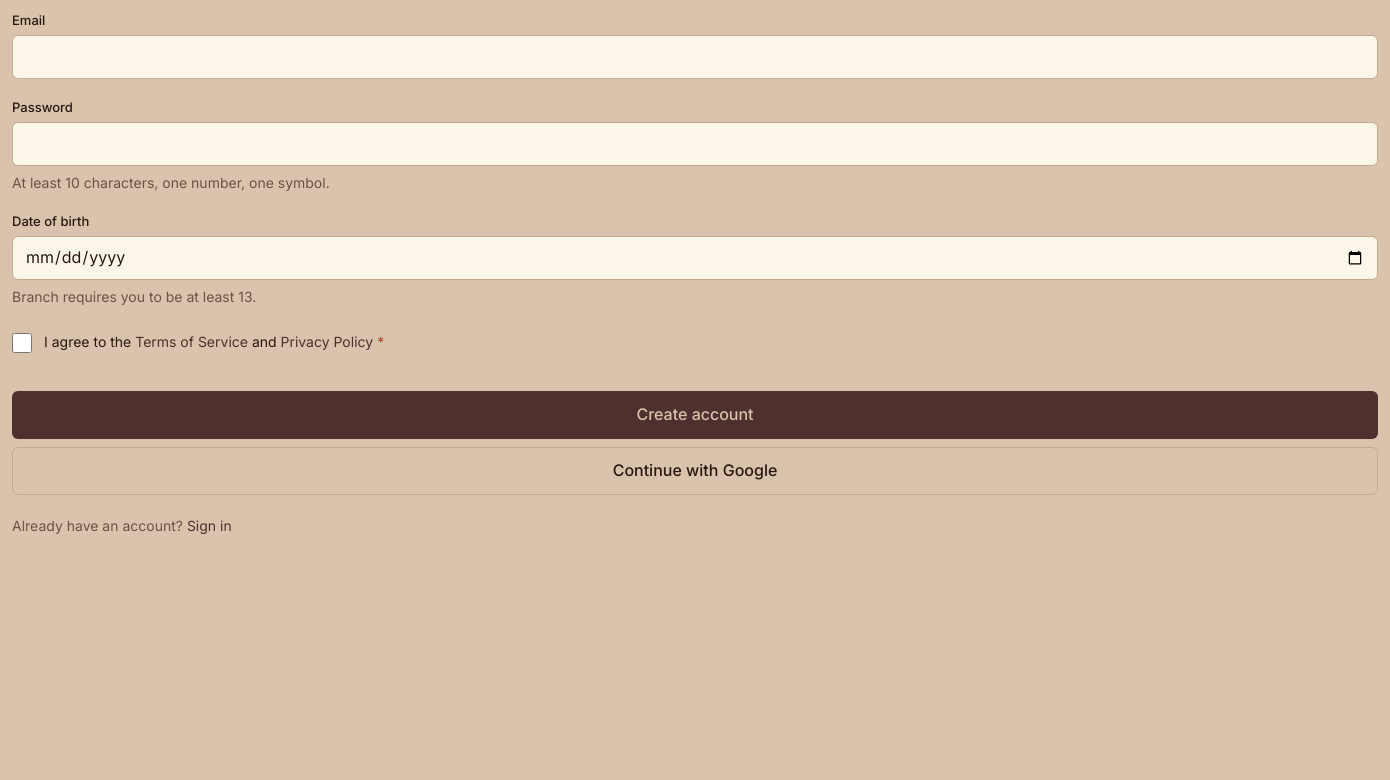
Scenario: SignUpForm › rejects passwords shorter than 10 characters
Type "alice@example.com" into the field labelled "Email" at (695, 57), box [12,35,1378,79]
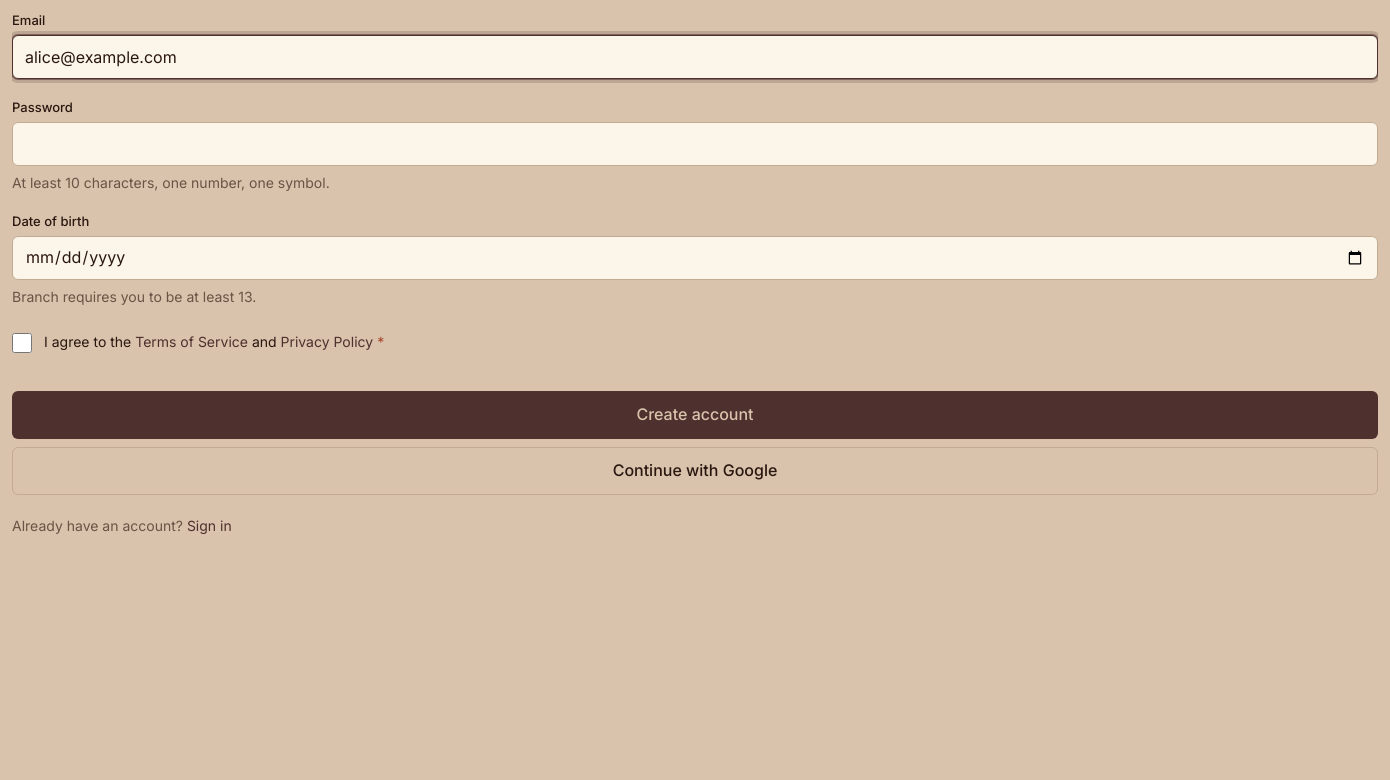
Type "short1!" into the password field labelled "Password" at (695, 144), box [12,122,1378,166]
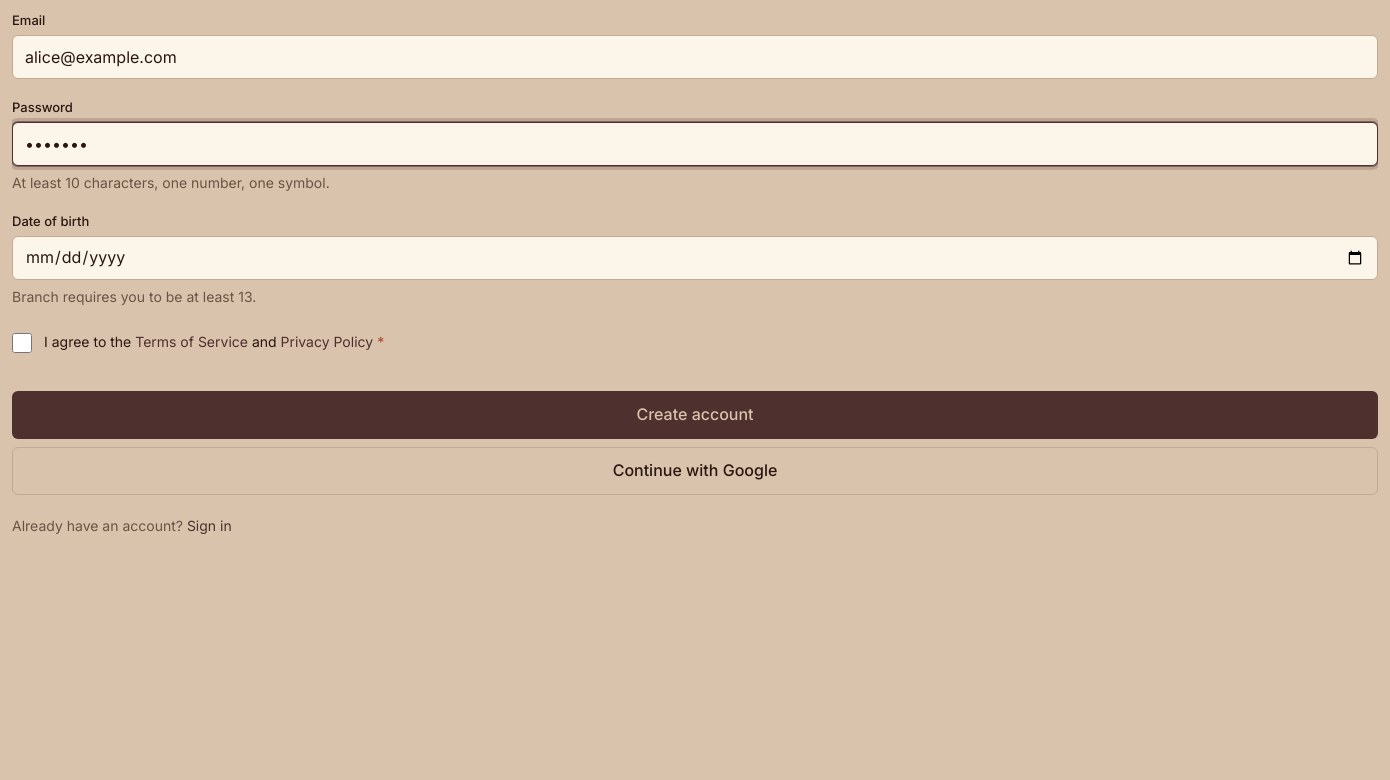
Click the button "Create account" at (695, 415), box [12,391,1378,439]
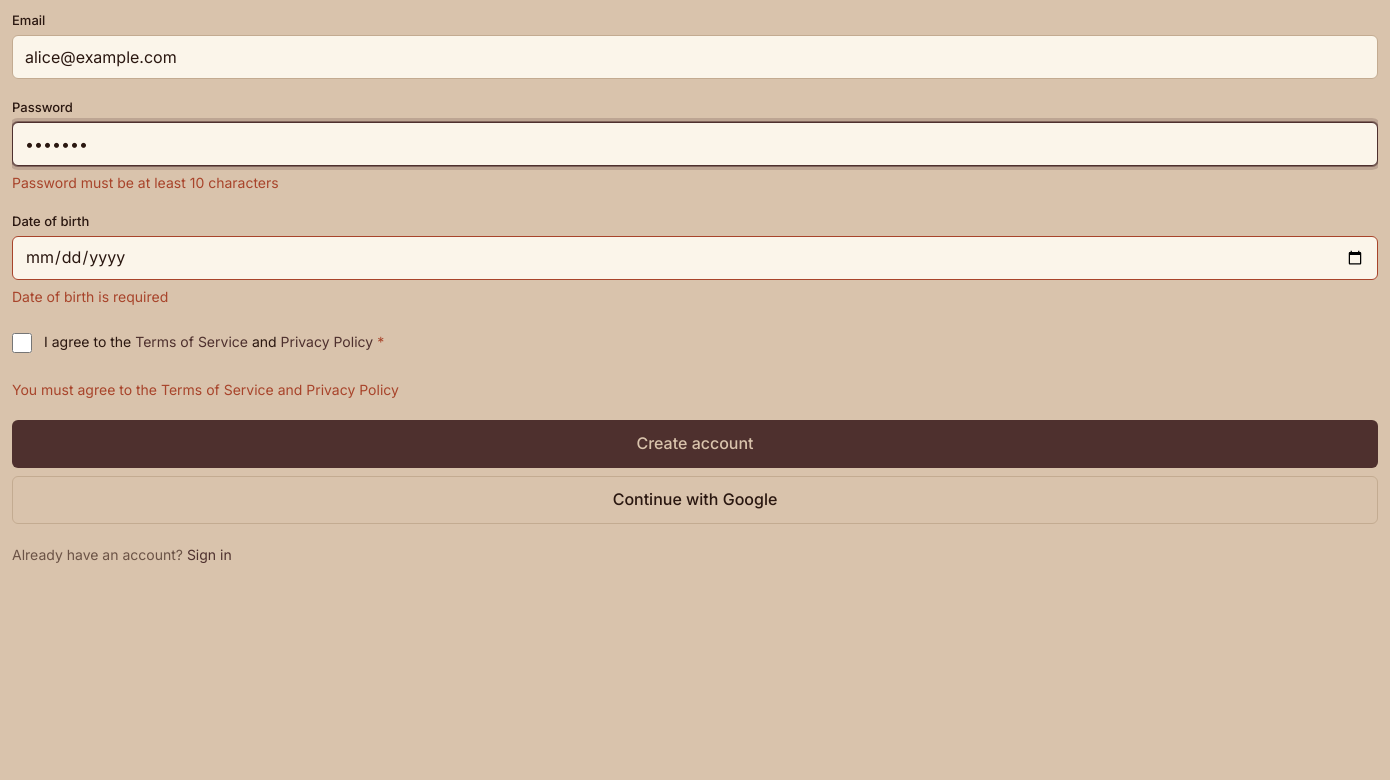
Expected: the text "Password must be at least 10 characters" is shown, [12,174,279,191]
